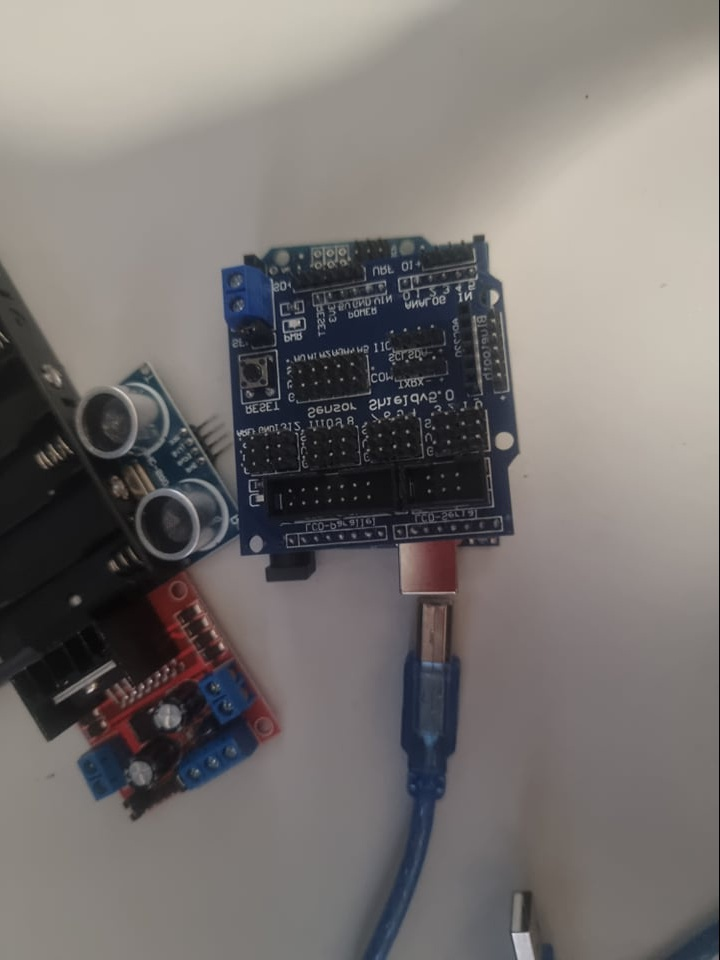5V EXPANSION: (213, 243, 518, 535)
BATTERY BOX: (3, 275, 150, 680)
MOTOR: (13, 574, 282, 844)
SENSOR: (73, 370, 242, 559)
